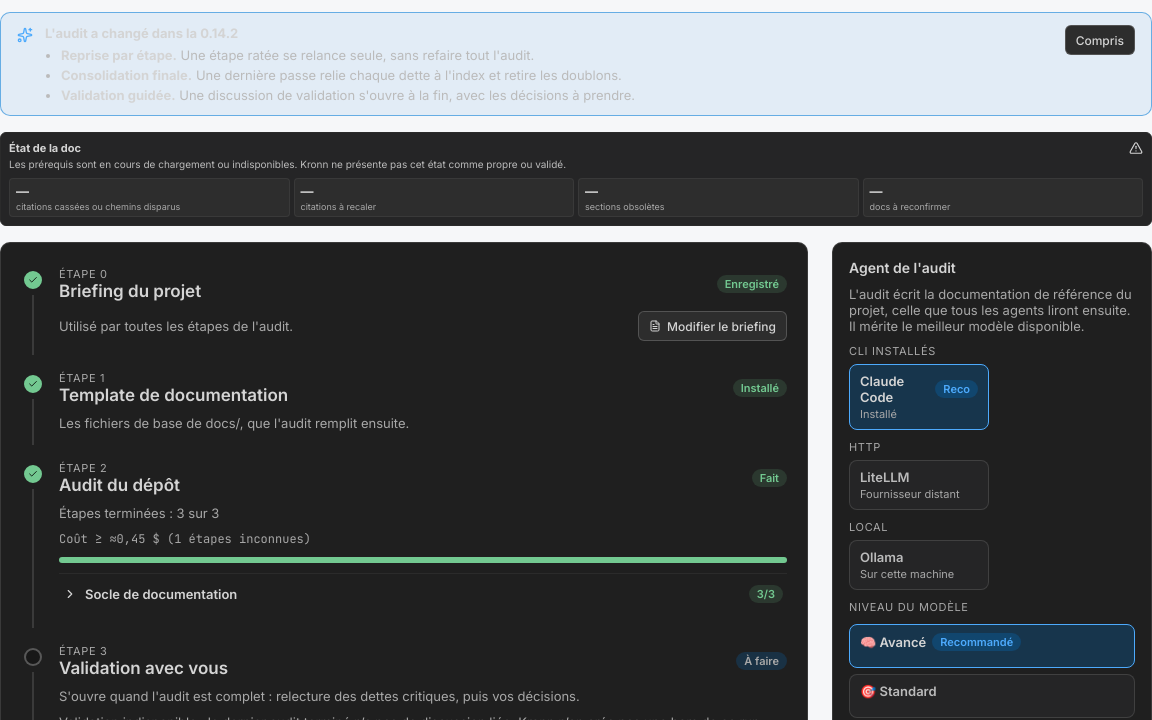
Test: AuditTimeline › shows an estimated cost apart from a reported one, and why a cost is unknown
The width and height of the screenshot is (1152, 720).
Step 1. Click the button with class "audit-tl-group-head" → click(161, 594), box [59, 574, 787, 614]
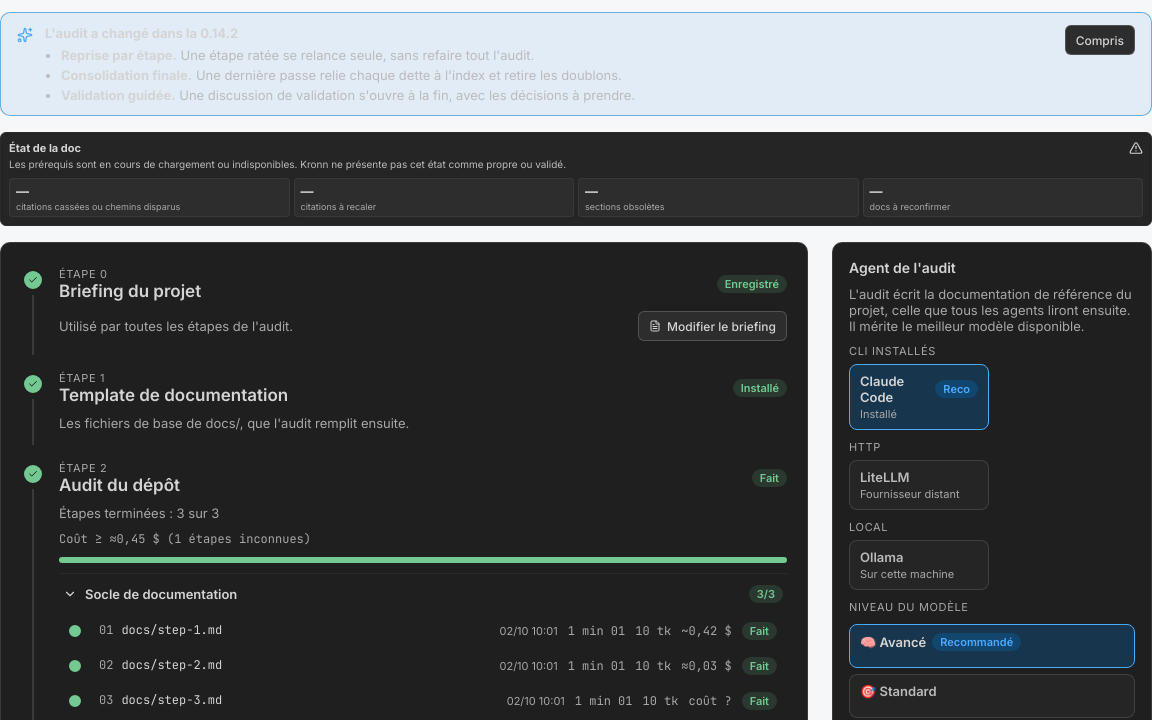
Expected: the text with test id "audit-timeline-step-cost-1" reads "~0,42 $", [681, 623, 732, 639]
Expected: the text with test id "audit-timeline-step-cost-2" reads "≈0,03 $", [681, 658, 732, 674]
Expected: the text with test id "audit-timeline-step-cost-3" shows "?", [688, 693, 732, 709]
